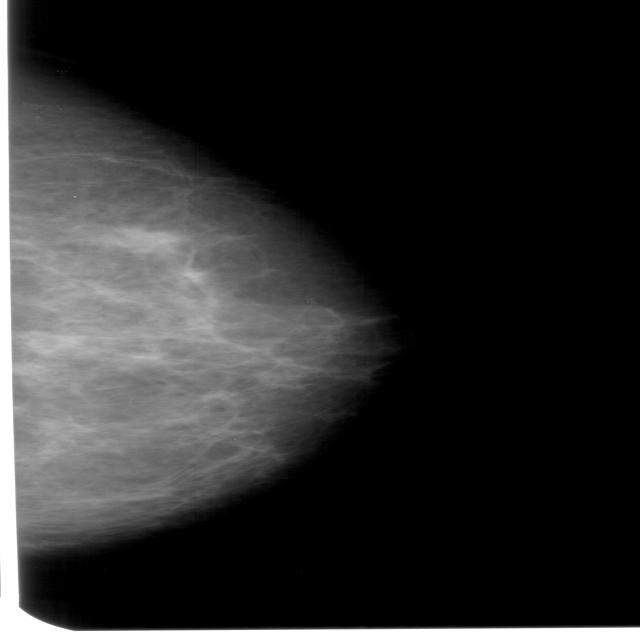normal: (0, 49, 405, 548)
